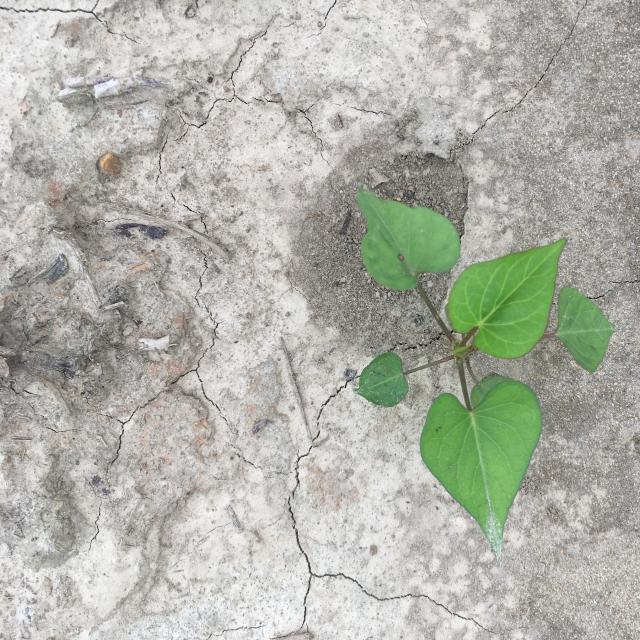MorningGlory: (354, 183, 618, 562)
